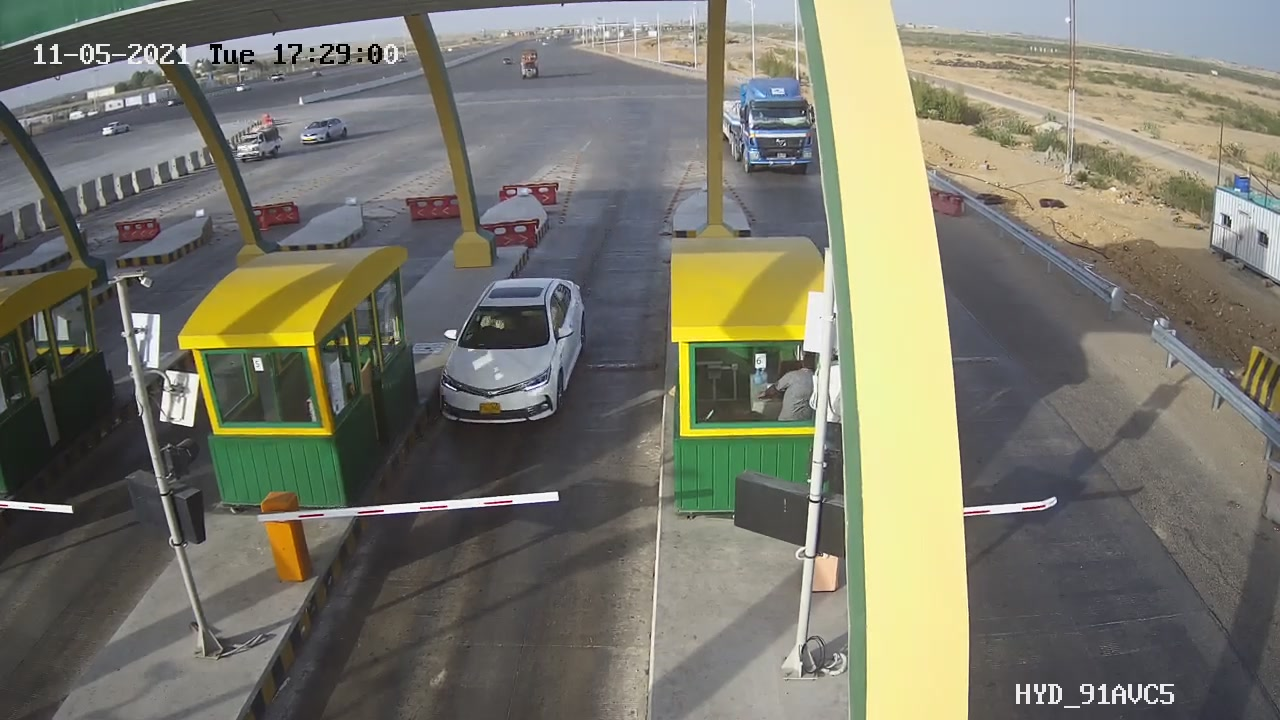F1: (417, 260, 600, 444)
